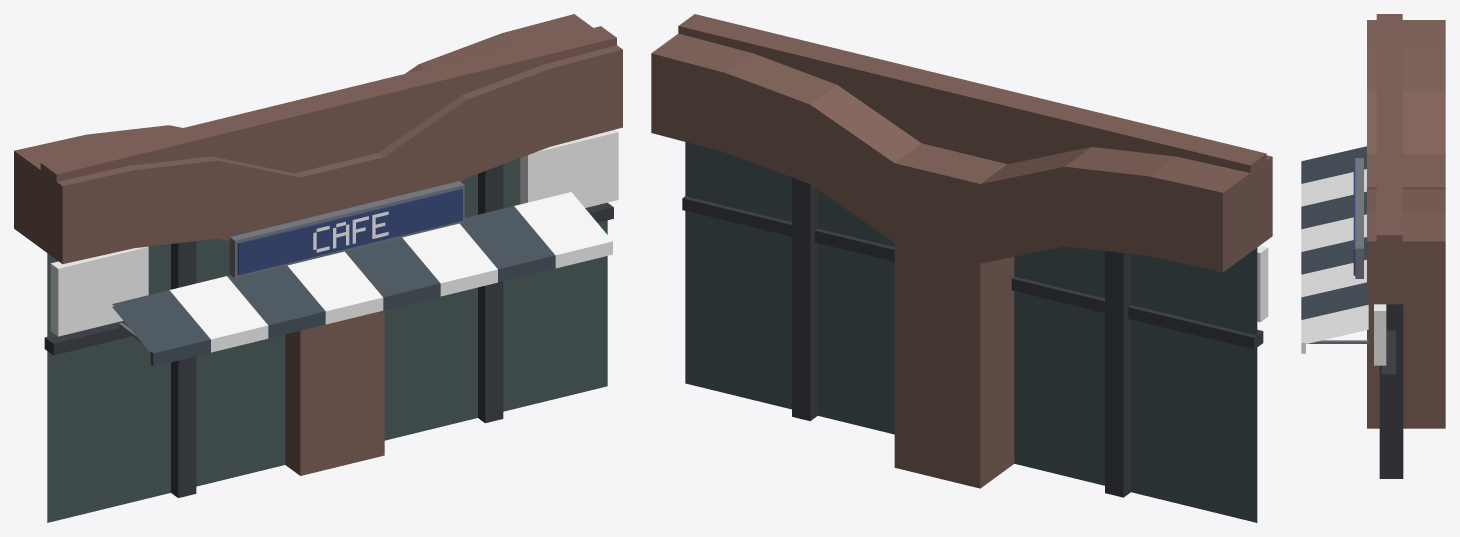
File: base-w1_close.fbx
3 renders of one model, left to right at view 1: azimuth 30°, elevation 25°; view 2: azimuth 150°, elevation 25°; view 3: azimuth 270°, elevation 25°, orthographic. The views are drawn at different scales.
Visible parts, largest first — view 1: a2009.wall.007; view 2: a2009.wall.007; view 3: a2009.wall.007.
Part boxes in pixels (x1,y1,x2,y2): a2009.wall.007: (14, 14, 622, 522); a2009.wall.007: (651, 14, 1272, 522); a2009.wall.007: (1301, 14, 1445, 478).
Size of the model in its own units: 8 by 4.85 by 2.2.
